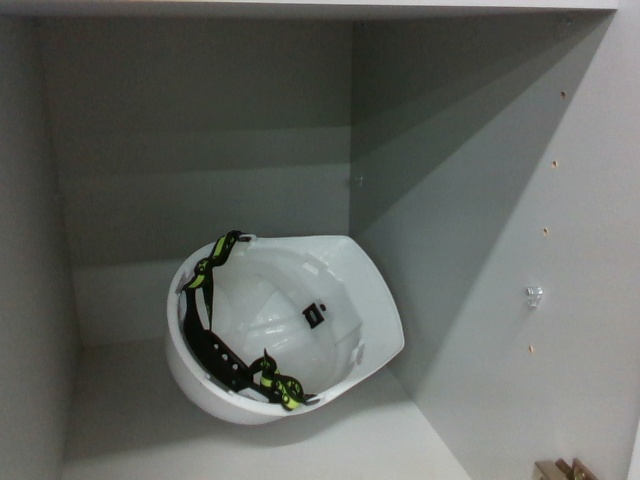helmet: (148, 227, 410, 432)
